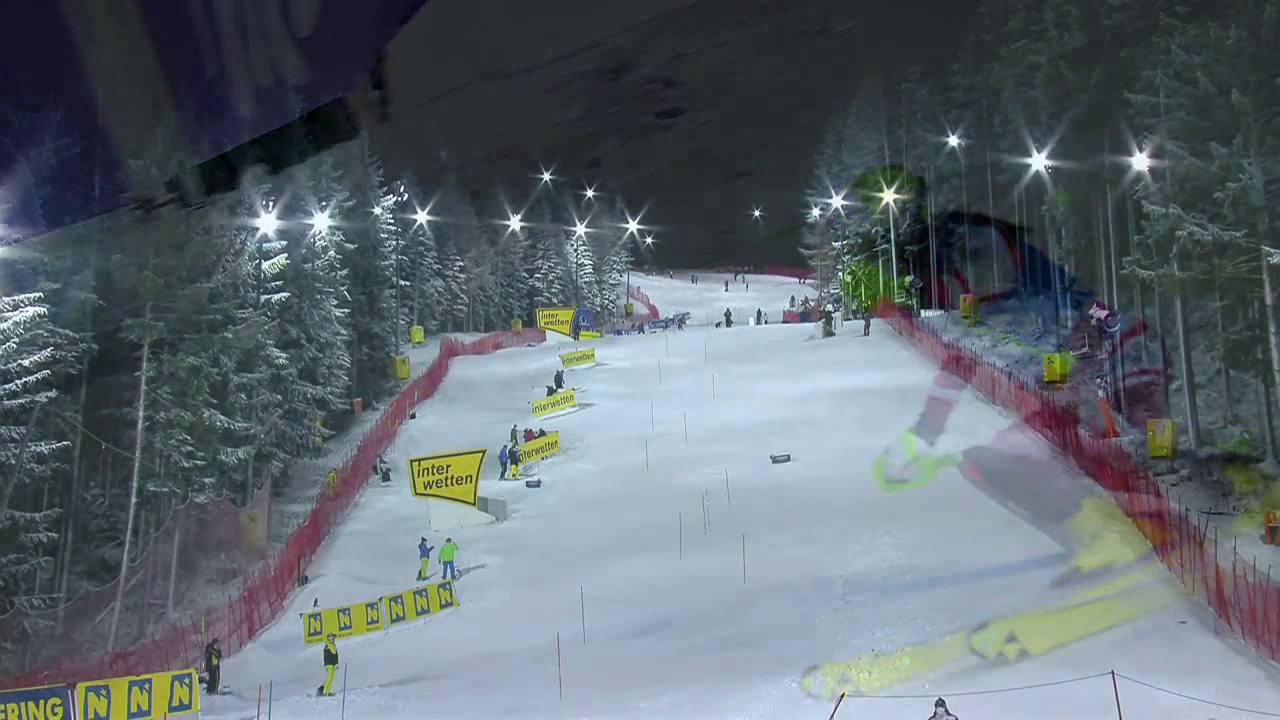interwetten: (404, 456, 491, 503)
